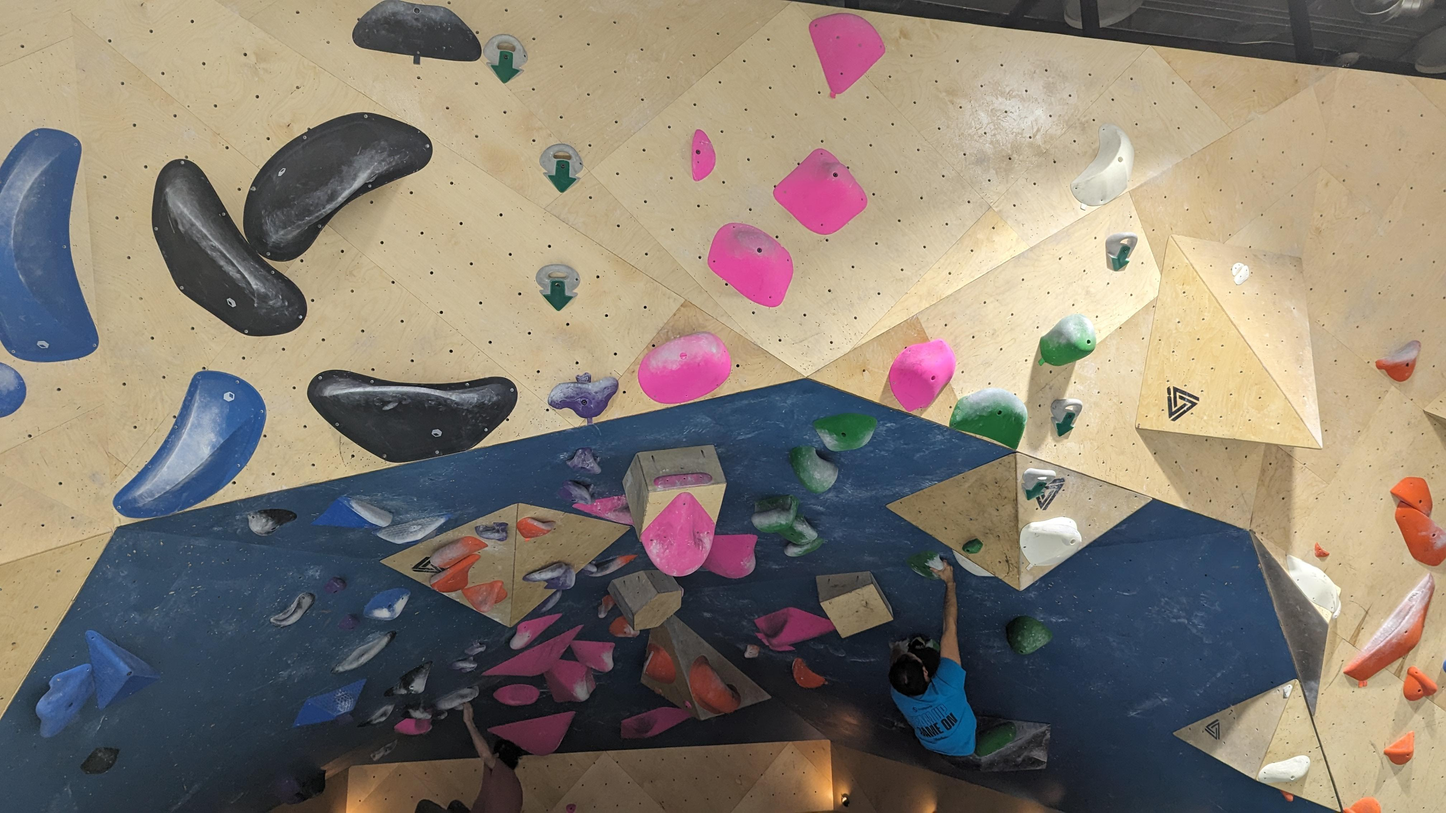black-hold: (214, 75, 442, 276), (112, 149, 318, 371), (106, 354, 285, 557), (0, 124, 101, 367), (304, 368, 519, 468), (1342, 571, 1446, 698), (695, 210, 809, 316), (768, 141, 876, 249), (630, 487, 733, 589), (629, 323, 740, 414), (64, 610, 163, 712), (874, 323, 968, 420), (350, 0, 488, 65), (803, 0, 895, 97), (1062, 119, 1151, 219), (479, 623, 596, 698), (19, 650, 106, 746), (947, 375, 1035, 453), (283, 675, 377, 736), (674, 652, 747, 726), (1277, 544, 1349, 619), (1377, 498, 1446, 573), (753, 594, 836, 655), (1031, 308, 1104, 372), (327, 623, 402, 684), (545, 366, 620, 424), (486, 711, 578, 758), (779, 435, 845, 500), (1015, 511, 1086, 571), (370, 511, 458, 554), (616, 699, 697, 745), (528, 252, 589, 313), (379, 656, 444, 713), (532, 135, 592, 196), (475, 26, 535, 87), (540, 651, 599, 710), (503, 598, 564, 655), (426, 550, 491, 602), (997, 605, 1056, 662), (570, 483, 642, 528), (1372, 337, 1433, 390), (811, 409, 881, 454), (700, 530, 759, 581), (309, 495, 394, 530), (1388, 466, 1445, 518), (426, 528, 489, 574), (267, 586, 322, 636), (967, 716, 1023, 760), (748, 493, 803, 536), (1392, 663, 1440, 711), (1096, 224, 1140, 276), (1255, 753, 1315, 791), (78, 737, 125, 784), (1015, 458, 1062, 502), (362, 583, 411, 624), (460, 578, 511, 617), (246, 503, 301, 539), (776, 511, 821, 555), (564, 441, 608, 485), (1381, 728, 1426, 771), (640, 642, 683, 686), (783, 654, 827, 697), (946, 548, 996, 585), (355, 698, 402, 736), (585, 551, 641, 580), (431, 683, 482, 714), (568, 640, 615, 673), (0, 362, 27, 418), (522, 562, 576, 590), (1049, 398, 1085, 438), (265, 771, 304, 806), (691, 129, 716, 182), (751, 630, 796, 659), (605, 613, 642, 648), (905, 549, 945, 580), (515, 515, 556, 544), (492, 683, 540, 707), (557, 478, 598, 506), (653, 471, 713, 490), (782, 536, 826, 559), (369, 737, 401, 763), (322, 572, 349, 600), (592, 592, 618, 620), (393, 718, 433, 736), (449, 655, 479, 678), (474, 522, 508, 542), (336, 611, 362, 637), (1342, 796, 1381, 813), (960, 535, 985, 559), (1231, 264, 1254, 287), (1309, 542, 1331, 563), (463, 640, 488, 658), (579, 560, 599, 580), (743, 642, 761, 661), (1330, 600, 1345, 622), (1228, 259, 1245, 277), (1276, 789, 1296, 803), (1279, 682, 1294, 700), (565, 802, 576, 813), (684, 700, 692, 709), (1443, 659, 1446, 673)
